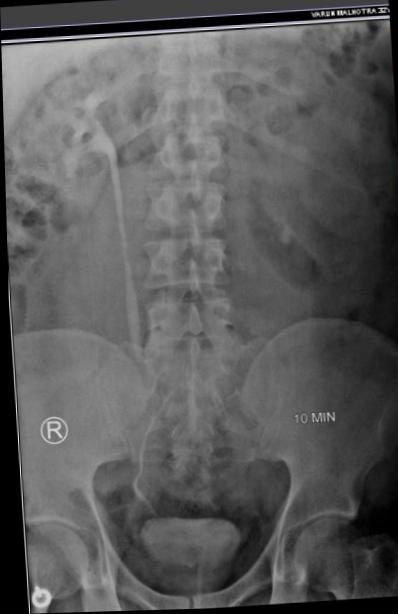bladder: (122, 509, 245, 610)
right kidney: (12, 38, 126, 217)
vertebrae: (147, 108, 223, 169)
